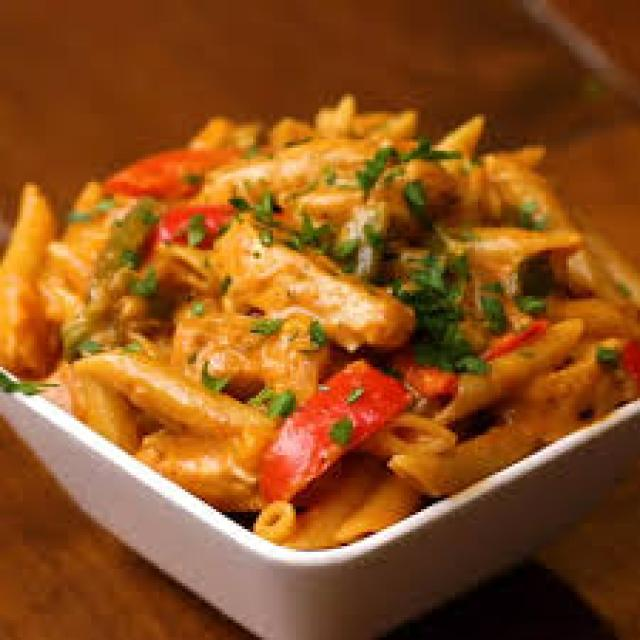wet: (12, 170, 589, 458)
